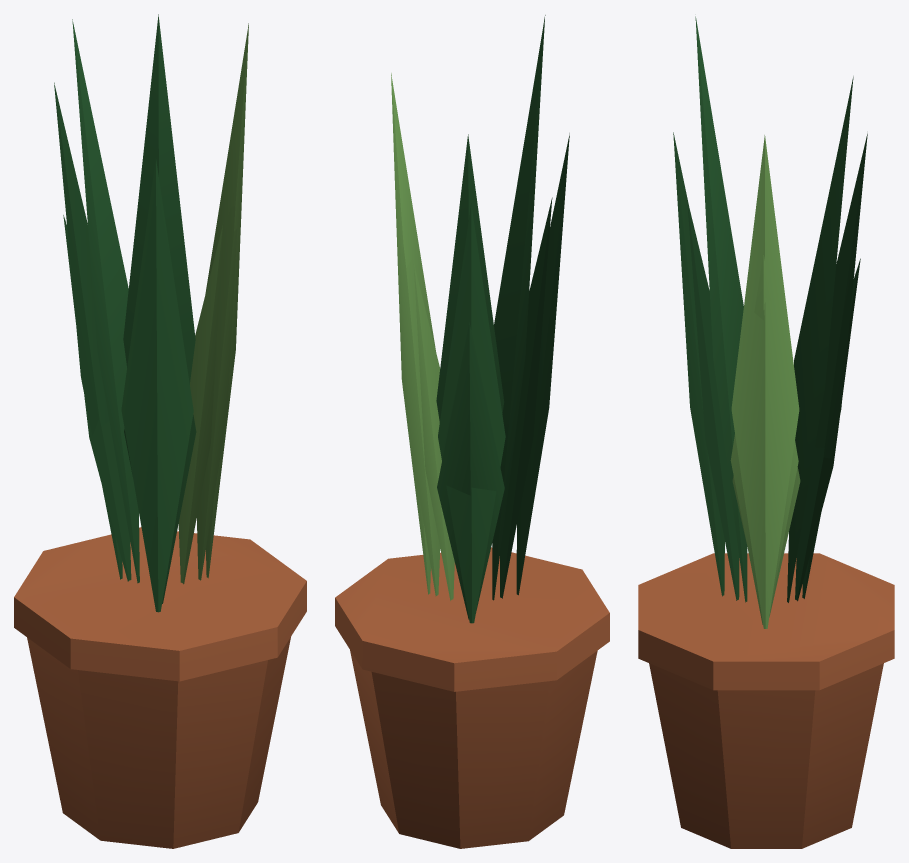
The model's file is plant_snake_01.glb.
The picture shows the model from 3 angles, left to right: view 1: azimuth 30°, elevation 25°; view 2: azimuth 150°, elevation 25°; view 3: azimuth 270°, elevation 25°; orthographic projection. The views are drawn at different scales.
Parts seen in each view (by area): view 1: plant_snake_01_mesh; view 2: plant_snake_01_mesh; view 3: plant_snake_01_mesh.
Part boxes in pixels (box(x1,y1,x2,y2)): plant_snake_01_mesh: box(14, 14, 306, 848); plant_snake_01_mesh: box(335, 15, 609, 848); plant_snake_01_mesh: box(638, 16, 894, 848).
Size of the model in its own units: 0.3393 by 1.14 by 0.3393.
1 material, 1 textured.
